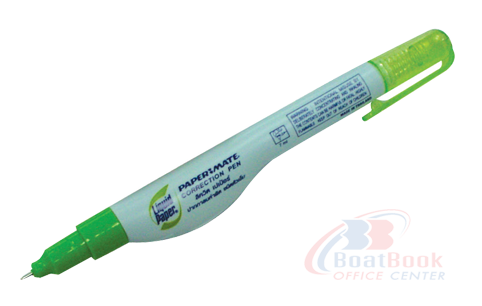Correction_fluid: (17, 26, 458, 284)
